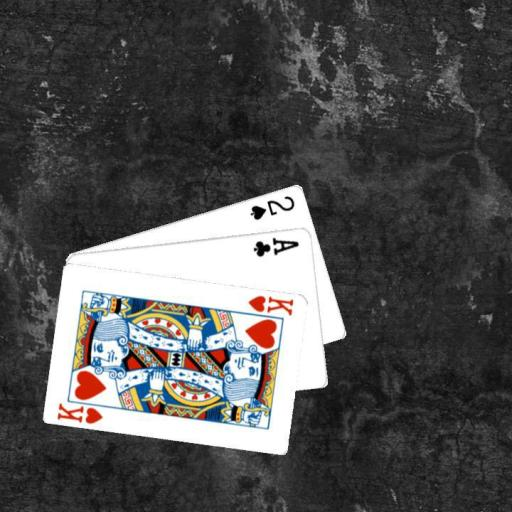2S: (247, 192, 297, 221)
AC: (250, 234, 301, 258)
KH: (54, 400, 105, 425), (245, 292, 295, 317)
